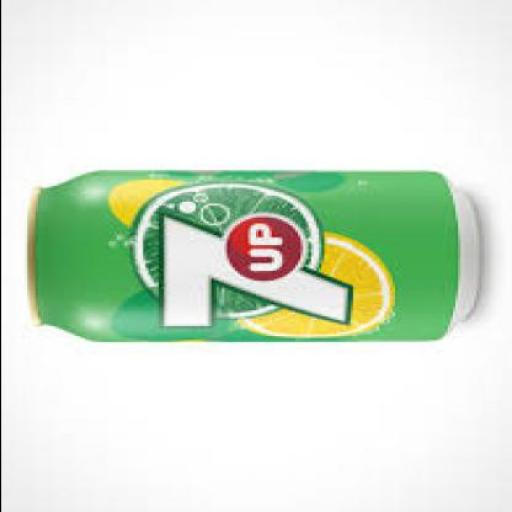metal: (24, 170, 481, 348)
